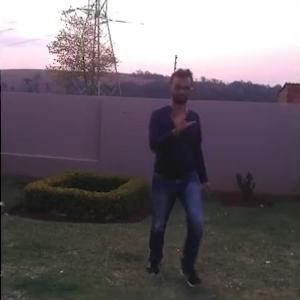follow_hand: (165, 101, 197, 133)
